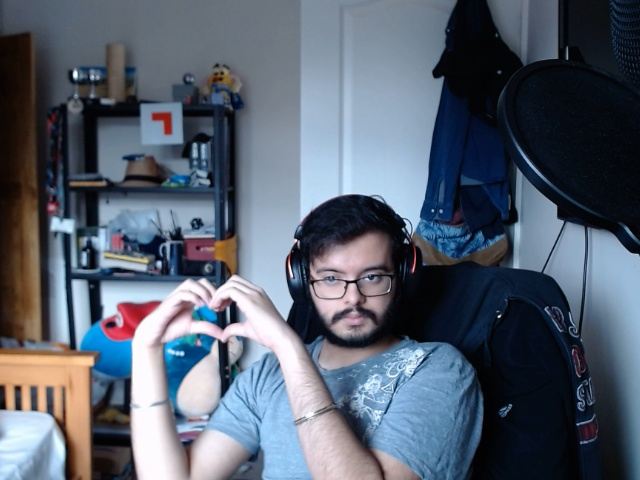Heart: (130, 272, 296, 340)
